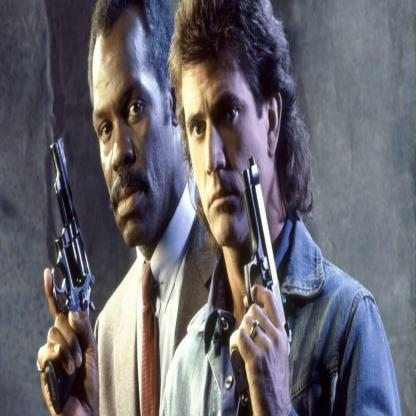Pistol: (0, 127, 114, 402), (199, 145, 293, 410)
